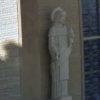Statue: (39, 0, 82, 89)
